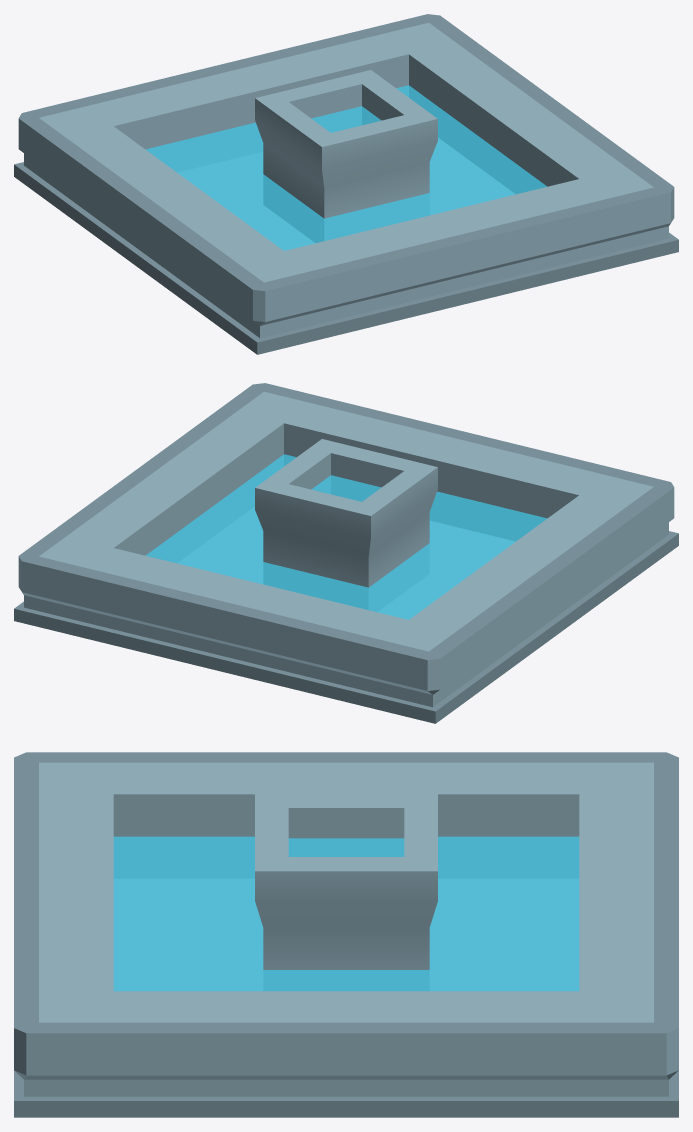
The model's file is fountainSquareDetail.fbx.
3 views of the same model, one above another, from view 1: azimuth 30°, elevation 25°; view 2: azimuth 150°, elevation 25°; view 3: azimuth 270°, elevation 25° (orthographic). The views are drawn at different scales.
Visible parts, largest first — view 1: fountainSquareDetail; view 2: fountainSquareDetail; view 3: fountainSquareDetail.
Part boxes in pixels (x1,y1,x2,y2): fountainSquareDetail: (14, 14, 678, 354); fountainSquareDetail: (14, 383, 678, 723); fountainSquareDetail: (14, 752, 678, 1117).
Size of the model in its own units: 20 by 4.8 by 20.
